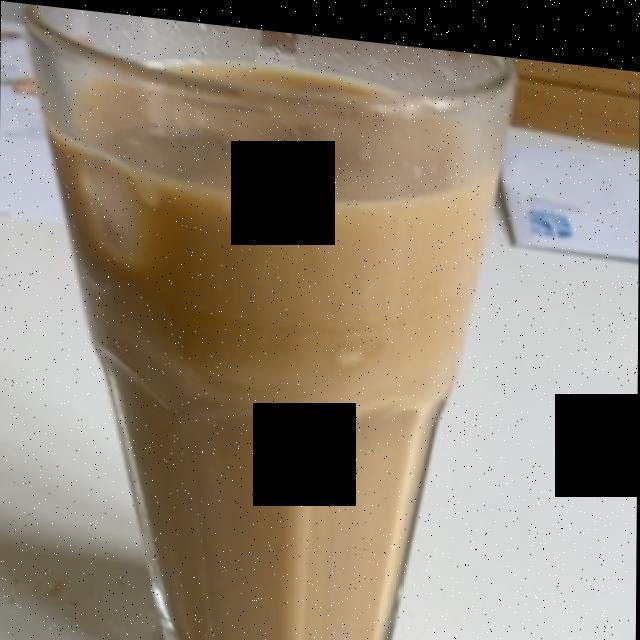coffee: (58, 58, 487, 640)
